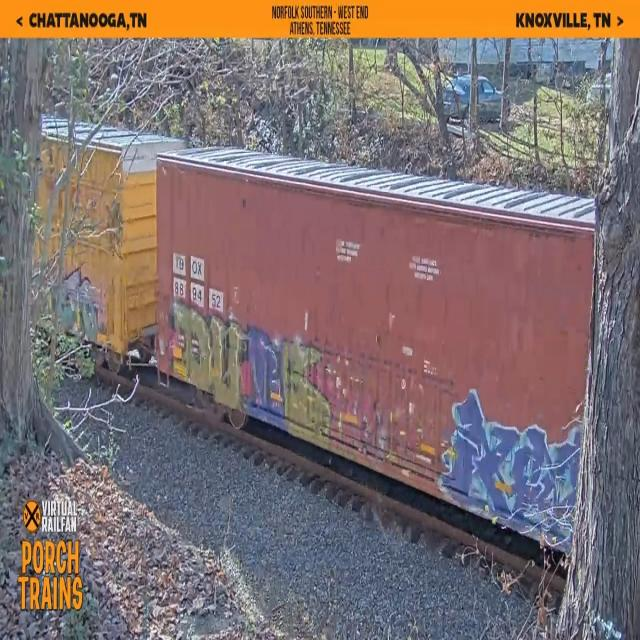boxcar: (148, 129, 592, 564)
